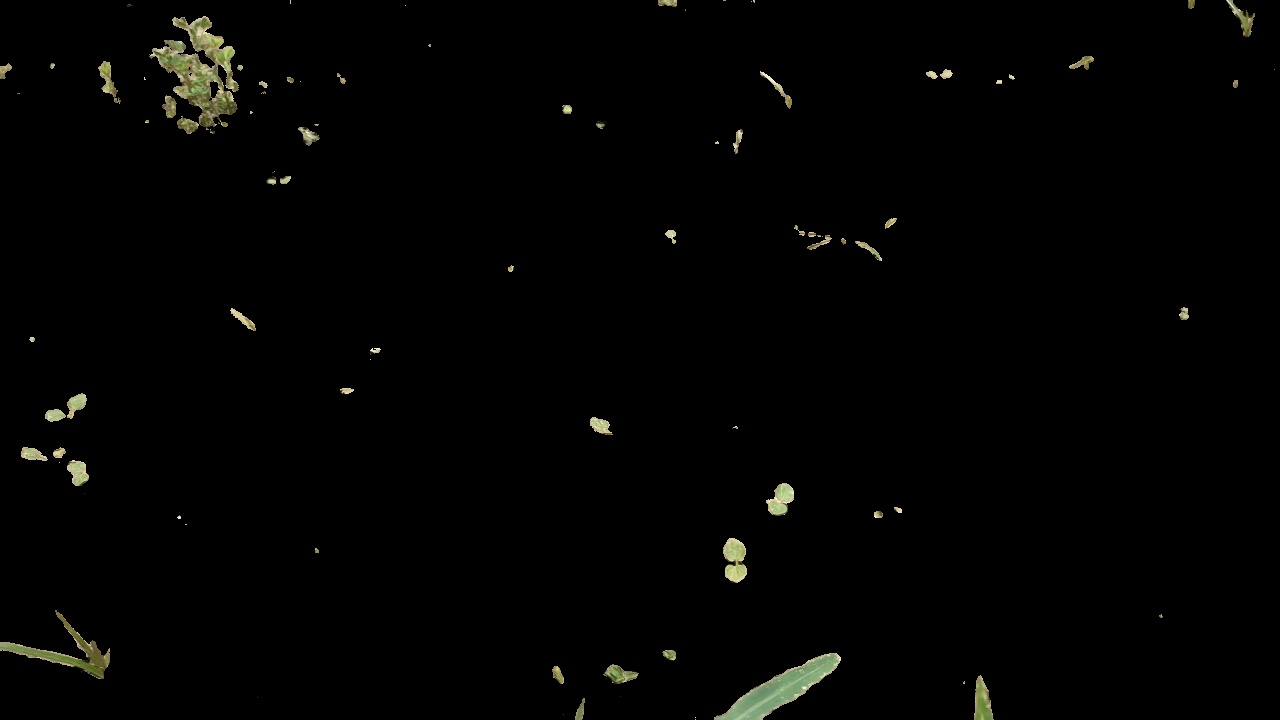crop: (556, 619, 843, 720)
weed: (81, 4, 263, 134), (1, 607, 119, 692), (1191, 1, 1280, 38), (35, 398, 105, 427), (715, 534, 755, 581), (762, 481, 805, 521), (599, 657, 645, 692), (579, 409, 615, 449), (63, 455, 98, 489), (916, 61, 958, 85), (661, 225, 686, 252), (259, 172, 303, 187)
